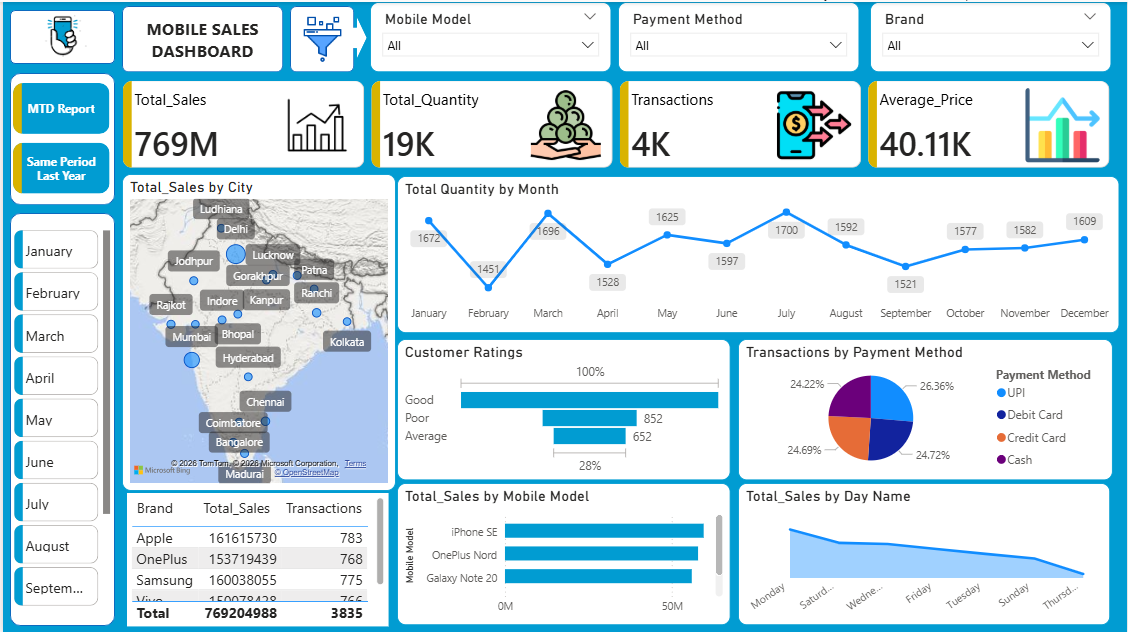

Layout of this report page (visuals, bound fields, positions):
{"tool":"powerbi","page":{"name":"Dashboard","canvas":[1280,720],"ordinal":0},"visuals":[{"type":"shape","box":[8,9.1,119.6,61.5],"z":0},{"type":"image","box":[32.6,9,69.8,61.9],"z":1000},{"type":"shape","box":[8,80.9,119.6,150.4],"z":2000},{"type":"shape","box":[8,240.4,119.6,470.5],"z":3000},{"type":"advancedSlicerVisual","fields":{"Values":["Custom_Calendar.Date.Variation.Date Hierarchy.Month"]},"box":[7.9,255.5,119.3,443.6],"z":4000},{"type":"cardVisual","fields":{"Data":["Sales_Data.Total_Sales","Sales_Data.Total_Quantity","Sales_Data.Transactions","Sales_Data.Average_Price"]},"box":[127.2,81.1,1144.9,117.1],"z":5000},{"type":"slicer","fields":{"Values":["Sales_Data.Mobile Model"]},"box":[417.7,0,274.7,79.9],"z":6000},{"type":"slicer","fields":{"Values":["Sales_Data.Payment Method"]},"box":[700.2,0,274.7,79.9],"z":7000},{"type":"slicer","fields":{"Values":["Sales_Data.Brand"]},"box":[987.3,0,274.7,79.9],"z":8000},{"type":"shape","box":[326.5,4.5,73.2,75.4],"z":9000},{"type":"image","box":[331,15.8,65.3,52.9],"z":10000},{"type":"shape","box":[391.8,16.9,22.5,47.3],"z":11000},{"type":"shape","box":[135.1,4.5,183.5,75.4],"z":12000},{"type":"textbox","box":[140.7,12.4,172.2,60.8],"z":13000},{"type":"map","fields":{"Category":["Sales_Data.City"],"Size":["Sales_Data.Total_Sales"]},"box":[135.6,195.6,312.2,361.1],"z":14000},{"type":"lineChart","title":"Total Quantity by Month","fields":{"Category":["Custom_Calendar.Date.Variation.Date Hierarchy.Month"],"Y":["Sales_Data.Total_Quantity"]},"box":[448.9,197.8,823.3,178.9],"z":15000},{"type":"funnel","title":"Customer Ratings","fields":{"Y":["CountNonNull(Sales_Data.Customer Ratings)"],"Category":["Sales_Data.Rating Status"]},"box":[448.9,384.4,380,161.1],"z":16000},{"type":"pieChart","fields":{"Category":["Sales_Data.Payment Method"],"Y":["Sales_Data.Transactions"]},"box":[837.8,384.4,426.7,161.1],"z":17000},{"type":"clusteredBarChart","fields":{"Y":["Sales_Data.Total_Sales"],"Category":["Sales_Data.Mobile Model"]},"box":[448.9,547.8,380,162.2],"z":18000},{"type":"areaChart","fields":{"Y":["Sales_Data.Total_Sales"],"Category":["Custom_Calendar.Day Name"]},"box":[837.8,547.8,424.4,162.2],"z":19000},{"type":"tableEx","fields":{"Values":["Sales_Data.Brand","Sales_Data.Total_Sales","Sales_Data.Transactions"]},"box":[141.1,558.9,297.8,152.2],"z":20000},{"type":"pageNavigator","box":[11.4,92.3,110.5,127.6],"z":21000}]}

Visuals, with their boxes in screenshot pixels (x1, y1, x2, y2), scaled from the page's 1280x720 canvas onto the 1128x632 screenshot:
shape: rect(7, 8, 112, 62)
image: rect(29, 8, 90, 62)
shape: rect(7, 71, 112, 203)
shape: rect(7, 211, 112, 624)
advancedSlicerVisual - Custom_Calendar.Date.Variation.Date Hierarchy.Month: rect(7, 224, 112, 614)
cardVisual - Sales_Data.Total_Sales x Sales_Data.Total_Quantity: rect(112, 71, 1121, 174)
slicer - Sales_Data.Mobile Model: rect(368, 0, 610, 70)
slicer - Sales_Data.Payment Method: rect(617, 0, 859, 70)
slicer - Sales_Data.Brand: rect(870, 0, 1112, 70)
shape: rect(288, 4, 352, 70)
image: rect(292, 14, 349, 60)
shape: rect(345, 15, 365, 56)
shape: rect(119, 4, 281, 70)
textbox: rect(124, 11, 276, 64)
map - Sales_Data.City x Sales_Data.Total_Sales: rect(119, 172, 395, 489)
"Total Quantity by Month" lineChart: rect(396, 174, 1121, 331)
"Customer Ratings" funnel: rect(396, 337, 730, 479)
pieChart - Sales_Data.Payment Method x Sales_Data.Transactions: rect(738, 337, 1114, 479)
clusteredBarChart - Sales_Data.Total_Sales x Sales_Data.Mobile Model: rect(396, 481, 730, 623)
areaChart - Sales_Data.Total_Sales x Custom_Calendar.Day Name: rect(738, 481, 1112, 623)
tableEx - Sales_Data.Brand x Sales_Data.Total_Sales: rect(124, 491, 387, 624)
pageNavigator: rect(10, 81, 107, 193)
